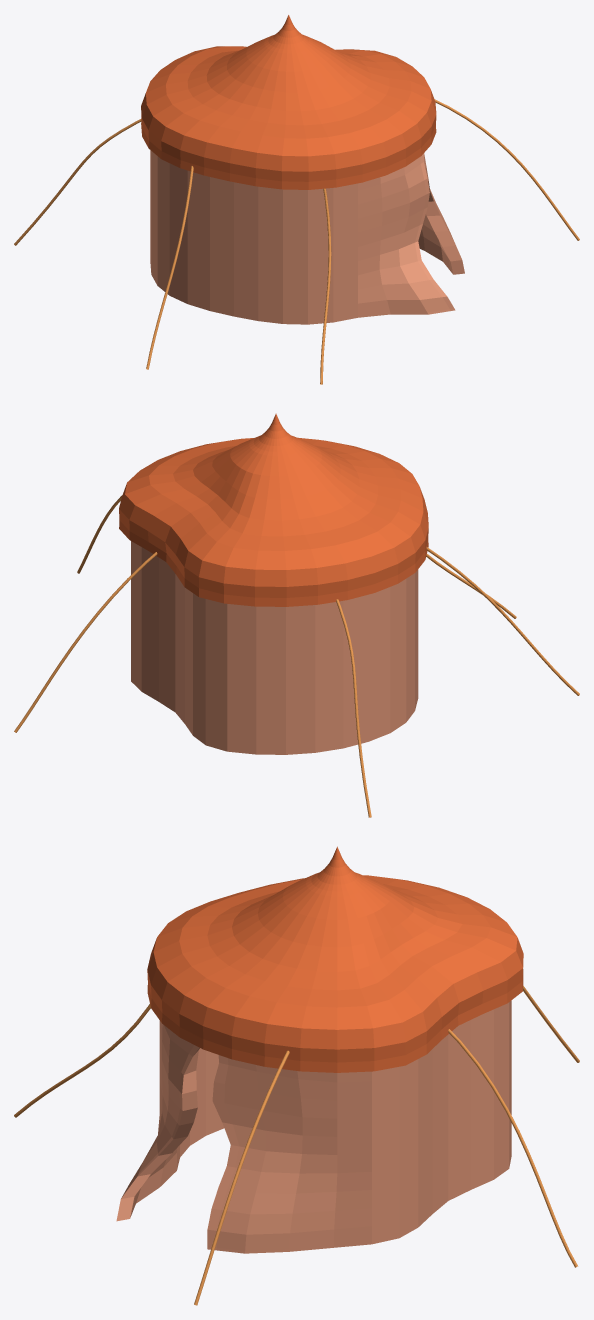
Rendered from tent.fbx.
3 views of the same model, one above another, from view 1: azimuth 30°, elevation 25°; view 2: azimuth 150°, elevation 25°; view 3: azimuth 270°, elevation 25° (orthographic). The views are drawn at different scales.
Visible parts, largest first — view 1: Cylinder.001; view 2: Cylinder.001; view 3: Cylinder.001.
Part boxes in pixels (x1,y1,x2,y2): Cylinder.001: (14,15,579,384); Cylinder.001: (14,413,579,817); Cylinder.001: (14,846,579,1305).
Bounding box in the file's own units: 371 × 206 × 318.
